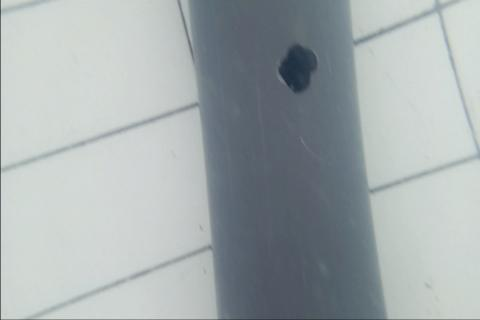kebocoran: (276, 42, 319, 97)
